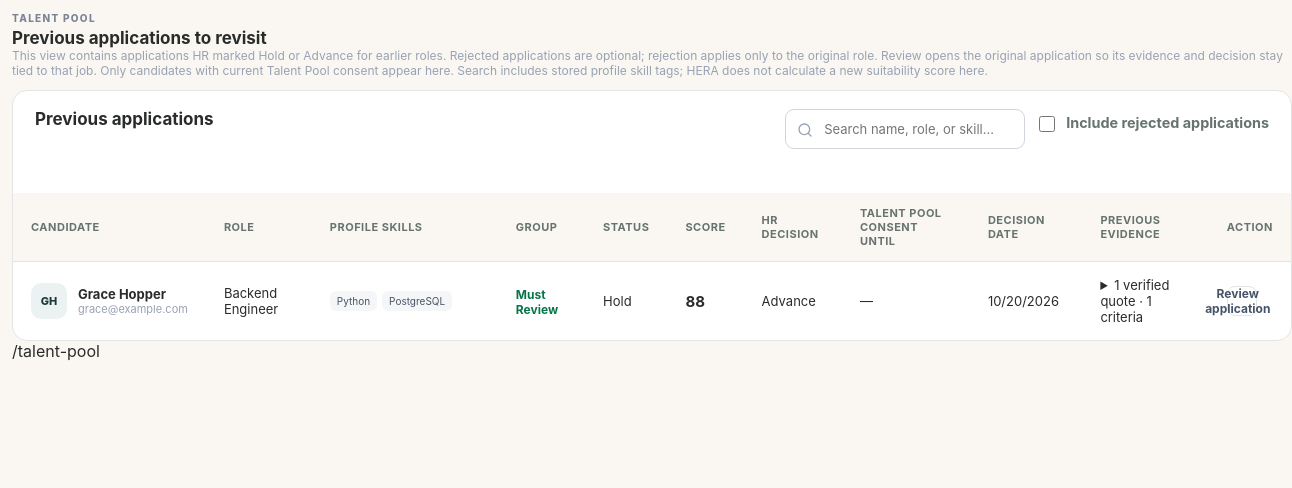
Scenario: TalentPoolList (RankedCandidateList integration) › shows the stored quote and criterion classification when expanded
Check: the text "Grace Hopper" is shown, box [78,286,166,302]
Click the heading "1 verified quote · 1 criteria". click: (1135, 301)
box: [1100,277,1169,325]
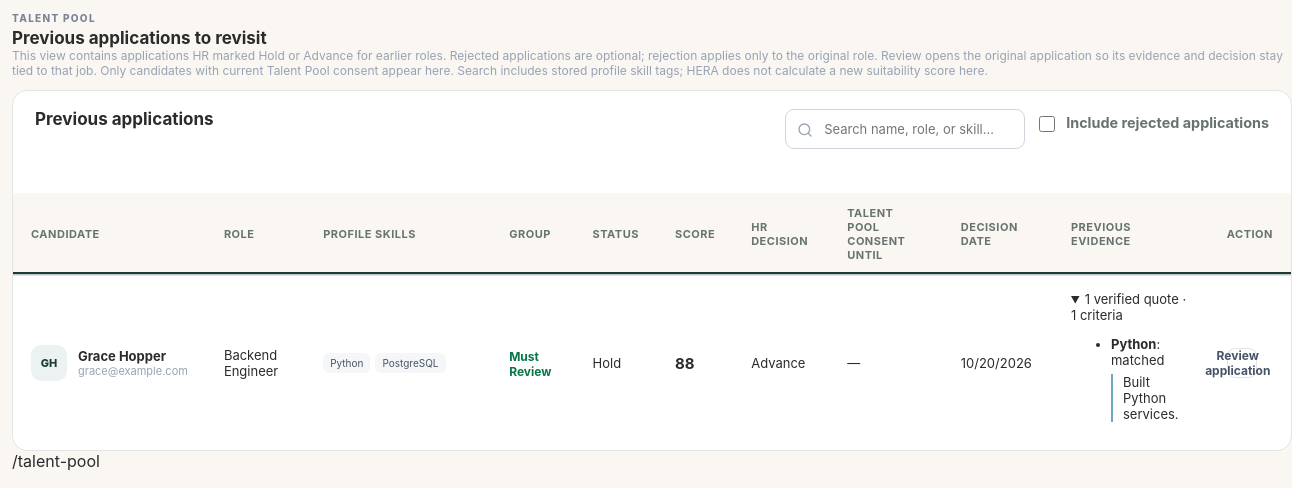
Check: the text with test id "path" reads "/talent-pool", box [12,451,100,471]
Check: the text "Built Python services." is shown, box [1111,374,1191,422]
Check: the list item shows "Python: matched", box [1111,336,1191,422]
